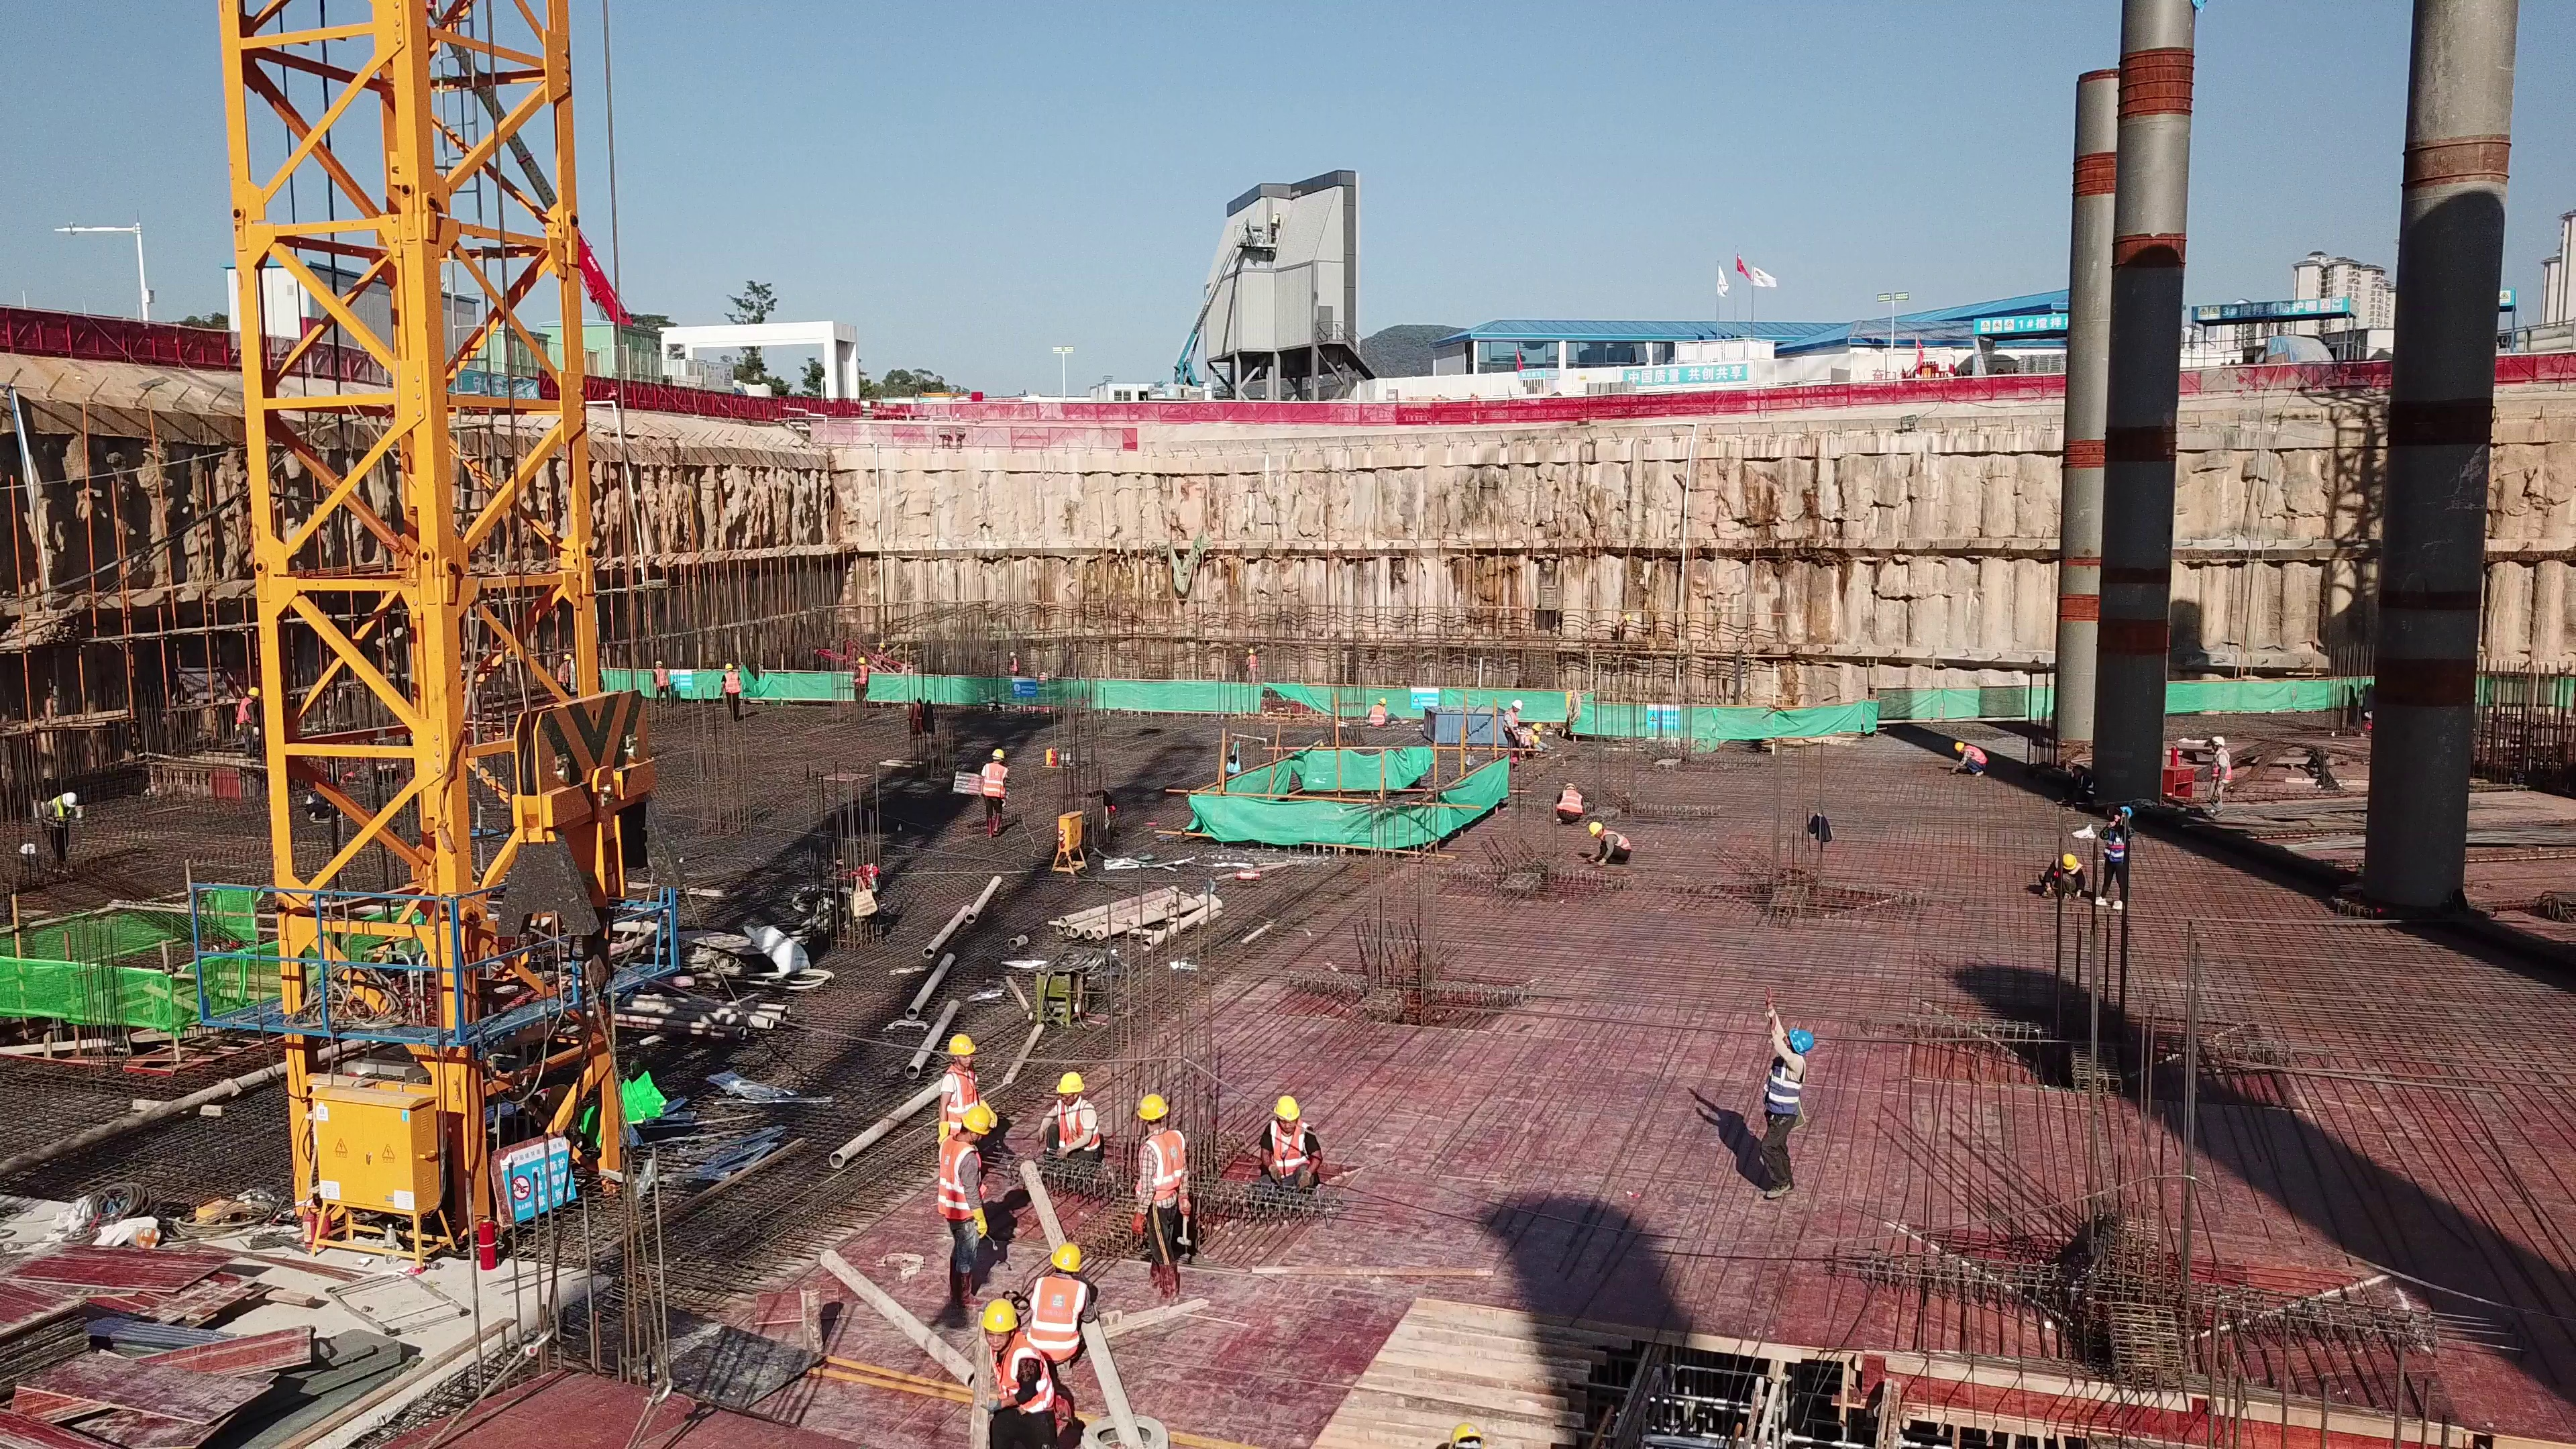board: (28, 1237, 303, 1433), (387, 1353, 812, 1449)
brick: (1583, 380, 1635, 396)
ebox: (302, 1074, 449, 1271), (1051, 808, 1088, 875)
fence: (1369, 398, 1763, 445), (34, 319, 264, 381)
helmet: (1444, 1409, 1492, 1449), (985, 1296, 1023, 1335), (1272, 1091, 1311, 1128), (1136, 1091, 1169, 1120), (1790, 1016, 1815, 1050), (1049, 1240, 1085, 1263), (1053, 1074, 1090, 1093), (960, 1112, 994, 1132), (945, 1032, 975, 1053), (58, 792, 78, 813), (1589, 817, 1609, 837), (2059, 851, 2080, 869), (989, 745, 1008, 762), (2118, 806, 2134, 818), (2213, 733, 2229, 747), (1953, 740, 1968, 754), (1533, 718, 1542, 735), (1531, 734, 1542, 746), (1509, 702, 1525, 712), (245, 688, 260, 697), (721, 661, 733, 672), (1561, 782, 1576, 789), (1378, 697, 1389, 706), (563, 651, 573, 660), (654, 659, 662, 666), (859, 658, 866, 665)
hook: (490, 690, 691, 1010)
hopper: (1421, 700, 1507, 745)
person: (1113, 1094, 1203, 1299), (1742, 977, 1818, 1207), (961, 1288, 1058, 1449), (932, 1093, 995, 1297), (1029, 1065, 1118, 1189), (1242, 1094, 1341, 1203), (1024, 1238, 1098, 1372), (922, 1022, 997, 1098), (34, 780, 82, 882), (2095, 801, 2139, 911), (2208, 717, 2241, 839), (975, 743, 1010, 846), (2035, 847, 2084, 906), (1941, 734, 1992, 788), (1578, 821, 1629, 871), (230, 684, 260, 759), (646, 657, 681, 714), (2058, 763, 2097, 814), (1551, 781, 1591, 829), (1495, 700, 1523, 761), (719, 657, 743, 721), (847, 653, 874, 710), (1359, 695, 1395, 735), (557, 650, 579, 702), (1518, 720, 1547, 758), (1238, 644, 1263, 685), (1609, 607, 1633, 648), (1001, 645, 1024, 682)
slogan: (2188, 295, 2349, 321), (1629, 358, 1751, 380), (1978, 313, 2072, 328)
vest: (979, 1347, 1059, 1421), (1760, 1056, 1808, 1136), (936, 1146, 988, 1214), (1034, 1275, 1081, 1344), (1142, 1140, 1183, 1210), (1051, 1105, 1099, 1158), (1274, 1125, 1320, 1178), (941, 1061, 971, 1125), (981, 759, 1009, 804), (2210, 750, 2233, 786), (38, 801, 66, 829), (2106, 828, 2131, 860), (237, 701, 263, 728), (1562, 790, 1582, 813), (1500, 712, 1520, 737), (1610, 828, 1628, 854), (1369, 704, 1387, 731), (1968, 743, 1985, 768), (2078, 773, 2094, 800), (653, 670, 670, 692), (557, 663, 574, 684), (722, 674, 736, 698), (858, 667, 868, 687)
